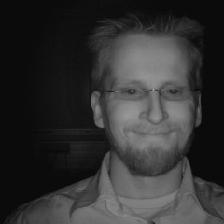happy: (84, 8, 215, 180)
